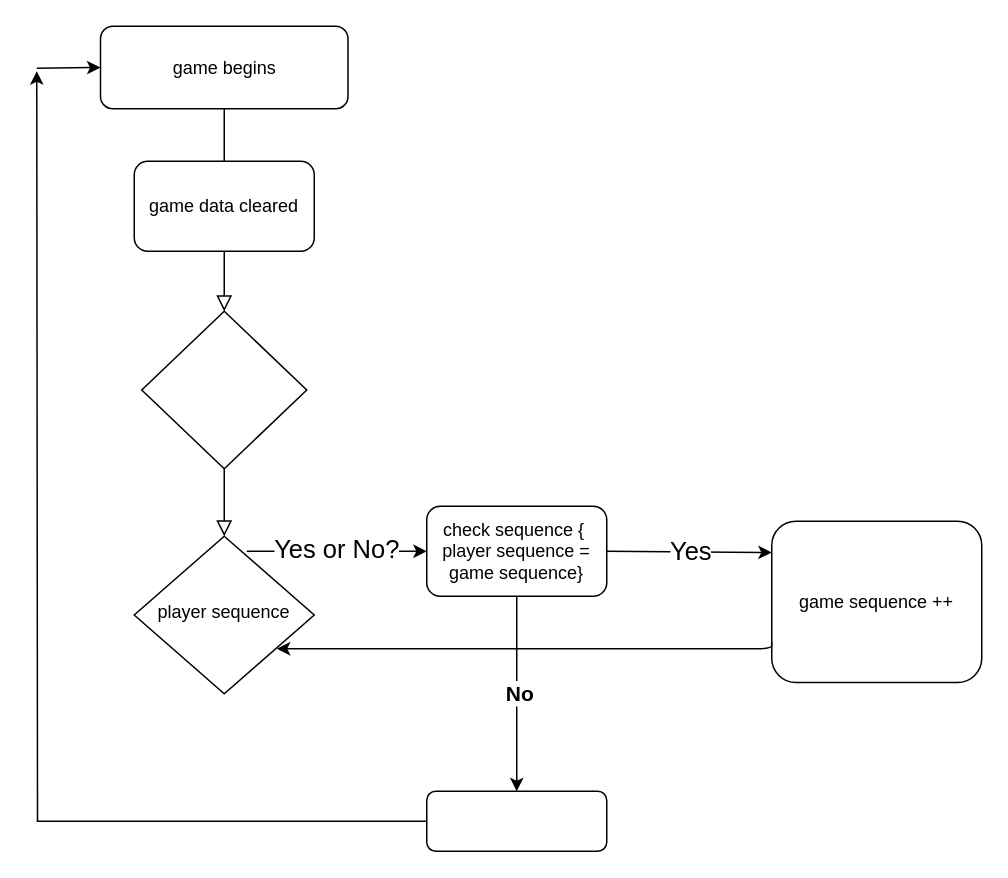
The diagram is 1008 pixels wide and 878 high, and some of its shapes have lost their labels. The shapes that lost their labels are listed below. From the top down, each one's centre as x and y in pixels, then its label:
At point (223, 389): "game random sequence".
At point (516, 820): "game over".
